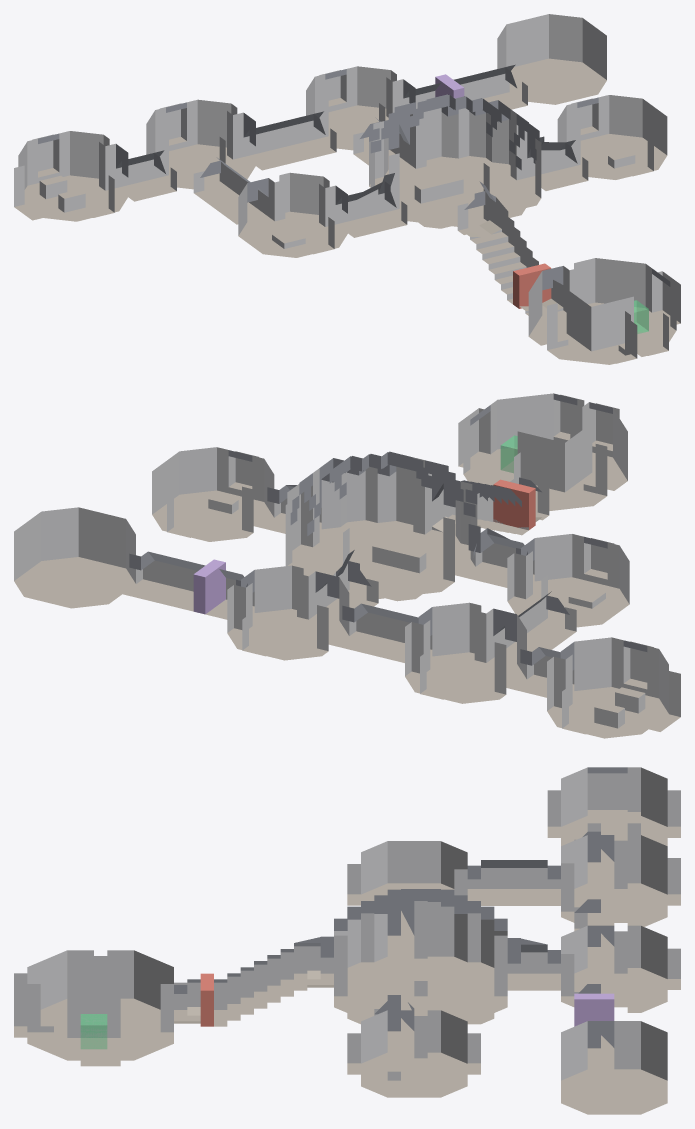
The model's file is station_1_line_research.glb.
3 views of the same model, one above another, from view 1: azimuth 30°, elevation 25°; view 2: azimuth 150°, elevation 25°; view 3: azimuth 270°, elevation 25° (orthographic). The views are drawn at different scales.
Visible parts, largest first — view 1: room:1, room:7, room:2, room:5, room:6, room:3, room:4, room:0, corridor:3, corridor:1, room:2/reactor core, room:1/portals (+23 smaller); view 2: room:1, room:7, room:6, room:5, room:2, room:4, room:3, room:0, corridor:6, room:2/reactor core, entities, corridor:3 (+23 smaller); view 3: room:1, room:2, room:7, room:5, room:4, corridor:1, room:0, room:6, room:3, corridor:7, entities, room:2/reactor core (+21 smaller).
Boxes of the visible parts, box(x1,y1,x2,y2) form: room:1: box(369, 95, 541, 228); room:7: box(497, 14, 606, 104); room:2: box(528, 258, 676, 364); room:5: box(557, 95, 667, 179); room:6: box(18, 131, 128, 221); room:3: box(238, 172, 347, 257); room:4: box(146, 99, 255, 190); room:0: box(306, 66, 415, 151); corridor:3: box(243, 111, 336, 170); corridor:1: box(457, 199, 563, 315); room:2/reactor core: box(566, 289, 633, 351); room:1/portals: box(389, 99, 527, 220); room:1: box(285, 452, 477, 601); room:7: box(14, 507, 135, 608); room:6: box(547, 637, 668, 738); room:5: box(152, 447, 274, 541); room:2: box(463, 393, 627, 512); room:4: box(405, 602, 526, 703); room:3: box(507, 534, 629, 628); room:0: box(227, 565, 349, 660); corridor:6: box(123, 551, 254, 619); room:2/reactor core: box(517, 423, 592, 492); entities: box(193, 435, 535, 614); corridor:3: box(336, 603, 432, 662); room:1: box(334, 889, 507, 1029); room:2: box(27, 950, 173, 1060); room:7: box(561, 1021, 667, 1114); room:5: box(361, 1010, 467, 1097); room:4: box(561, 835, 667, 926); corridor:1: box(174, 943, 333, 1026); room:0: box(561, 925, 667, 1012); room:6: box(561, 767, 667, 860); room:3: box(361, 841, 467, 928); corridor:7: box(467, 860, 560, 905); entities: box(80, 973, 614, 1049); room:2/reactor core: box(67, 989, 120, 1037).
Bounding box in the file's own units: 54 × 10 × 50.
